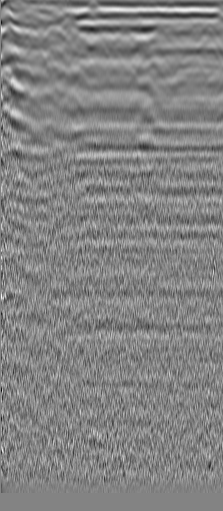가스: (210, 118, 223, 138)
오수: (22, 7, 42, 27)
우수: (160, 22, 180, 42)
